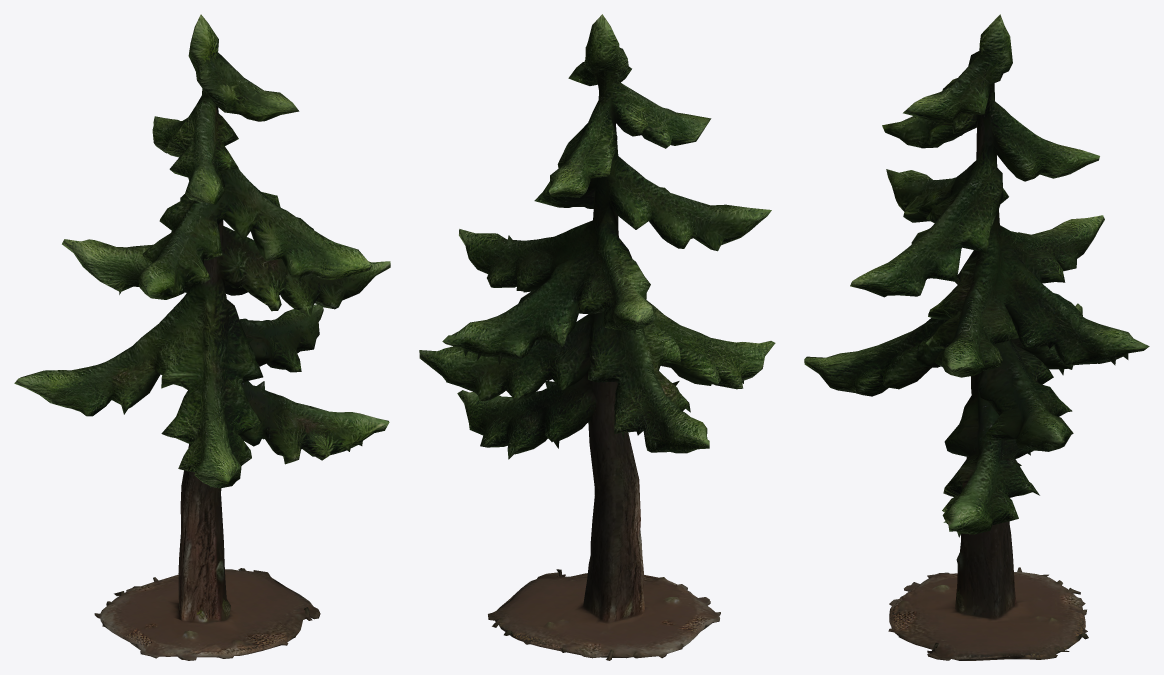
Rendered from Pino.fbx.
The picture shows the model from 3 angles, left to right: view 1: azimuth 30°, elevation 25°; view 2: azimuth 150°, elevation 25°; view 3: azimuth 270°, elevation 25°; orthographic projection.
Parts seen in each view (by area): view 1: tripo_node_87c4edb3-45c4-4a67-b444-351d1a0f833e; view 2: tripo_node_87c4edb3-45c4-4a67-b444-351d1a0f833e; view 3: tripo_node_87c4edb3-45c4-4a67-b444-351d1a0f833e.
Boxes of the visible parts, bbox=[...] form: tripo_node_87c4edb3-45c4-4a67-b444-351d1a0f833e: bbox=[14, 14, 390, 660]; tripo_node_87c4edb3-45c4-4a67-b444-351d1a0f833e: bbox=[419, 14, 775, 660]; tripo_node_87c4edb3-45c4-4a67-b444-351d1a0f833e: bbox=[804, 14, 1149, 660].
Size of the model in its own units: 0.5457 by 1 by 0.5196.
Materials: 1 (1 with a texture image).
